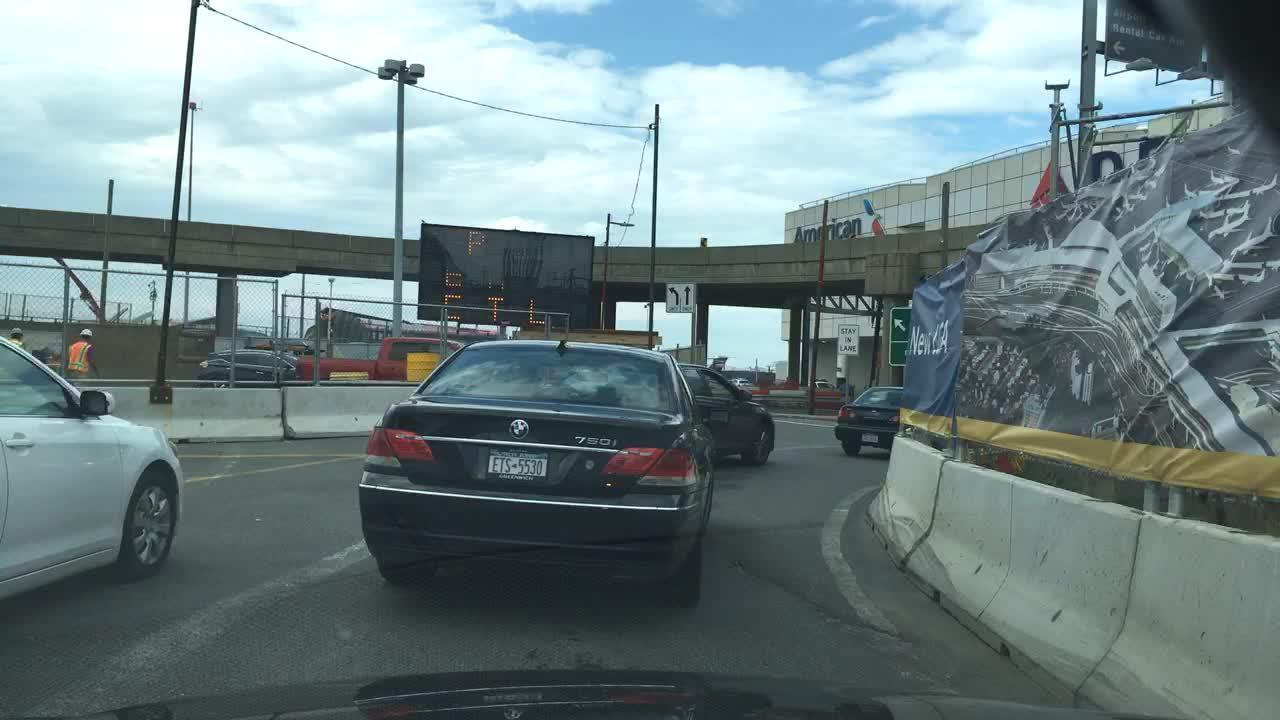bmw: (504, 412, 536, 444)
